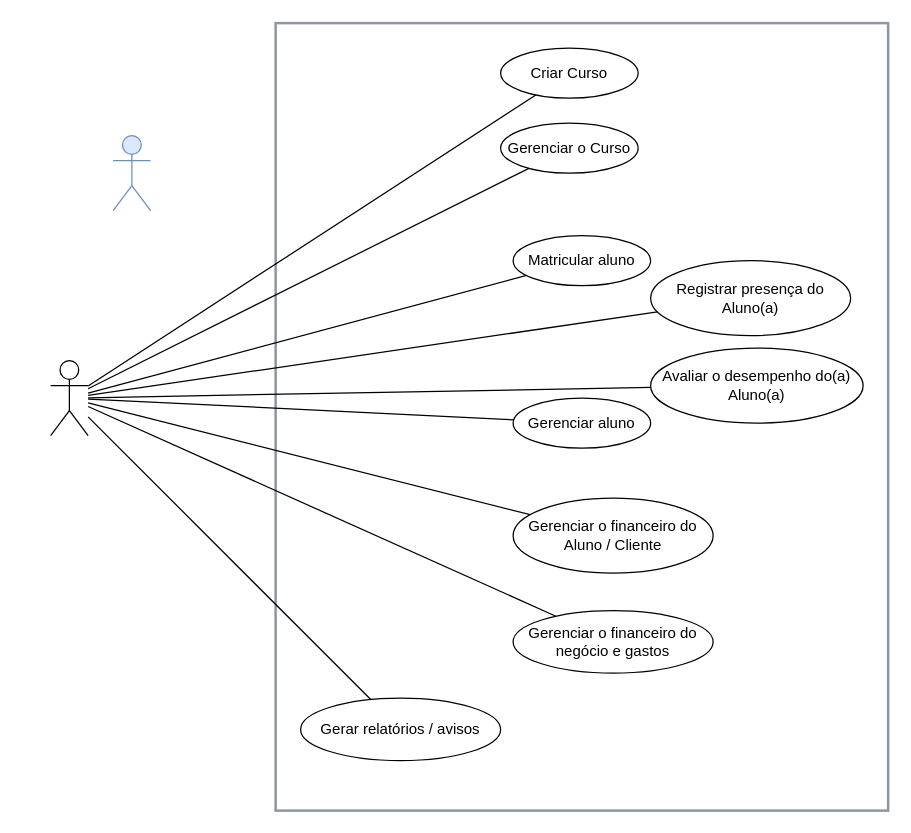
This 911x833 diagram has some shape labels left out. Here are the shapes that lost their labels. From the top down, the centre of each, then its label:
the point at 131,172: Aluno / Cliente
the point at 68,397: Profe. / Freela
